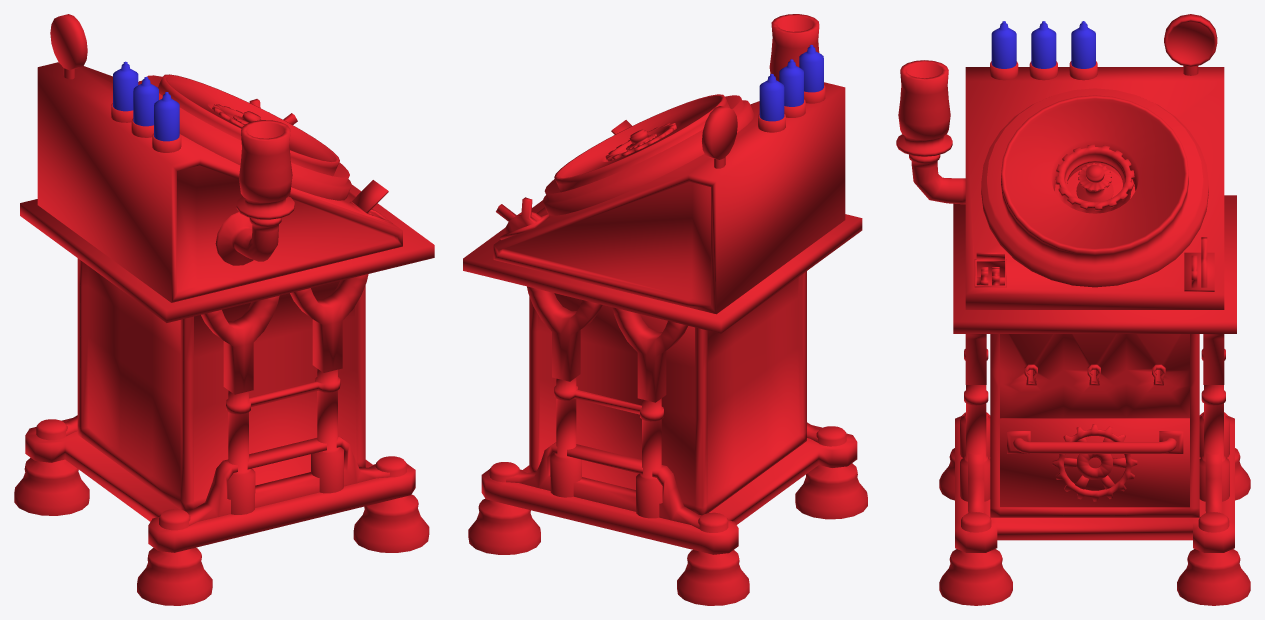
File: M_HorlogeCentrale.fbx
The picture shows the model from 3 angles, left to right: view 1: azimuth 30°, elevation 25°; view 2: azimuth 150°, elevation 25°; view 3: azimuth 270°, elevation 25°; orthographic projection. The views are drawn at different scales.
Visible parts, largest first — view 1: Horloge_Bloc, Horloge_Verre; view 2: Horloge_Bloc, Horloge_Verre, Engrenage_Cadran; view 3: Horloge_Bloc, Tiroir, Engrenage_Cadran, Horloge_Verre, Engrenage_Tiroir.
Boxes of the visible parts, box(x1,y1,x2,y2) form: Horloge_Bloc: box(14, 14, 434, 605); Horloge_Verre: box(113, 61, 179, 141); Horloge_Bloc: box(463, 14, 867, 605); Horloge_Verre: box(759, 44, 823, 121); Engrenage_Cadran: box(605, 123, 677, 161); Horloge_Bloc: box(896, 14, 1250, 605); Tiroir: box(1000, 418, 1189, 507); Engrenage_Cadran: box(1055, 144, 1134, 213); Horloge_Verre: box(991, 21, 1095, 68); Engrenage_Tiroir: box(1052, 424, 1137, 501).
Bounding box in the file's own units: 74.48 × 123 × 83.63.
